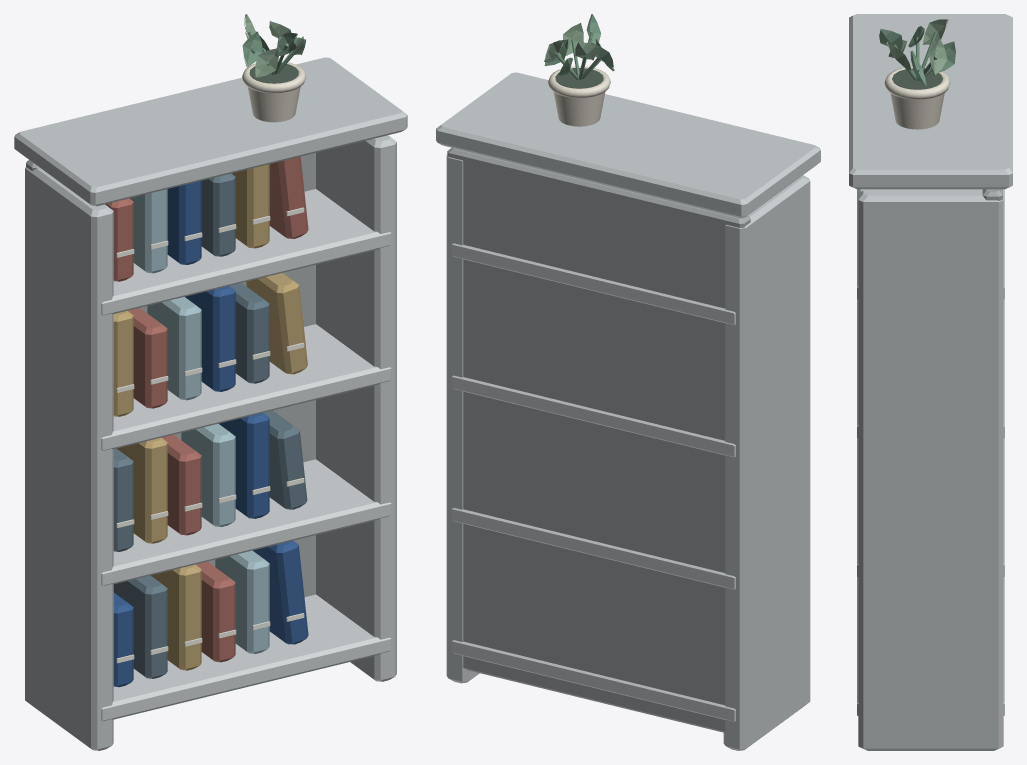
Rendered from v18_interior_ivory_bookcase.glb.
3 renders of one model, left to right at view 1: azimuth 30°, elevation 25°; view 2: azimuth 150°, elevation 25°; view 3: azimuth 270°, elevation 25°, orthographic. The views are drawn at different scales.
Visible parts, largest first — view 1: _MeshInstance3D_4603, _MeshInstance3D_4604, _MeshInstance3D_4657, _MeshInstance3D_4618, _MeshInstance3D_4631, _MeshInstance3D_4644, _MeshInstance3D_4605, _MeshInstance3D_4602, _MeshInstance3D_4614, _MeshInstance3D_4608, _MeshInstance3D_4636, _MeshInstance3D_4625 (+22 smaller); view 2: _MeshInstance3D_4602, _MeshInstance3D_4603, _MeshInstance3D_4657, _MeshInstance3D_4604, _MeshInstance3D_4631, _MeshInstance3D_4618, _MeshInstance3D_4605, _MeshInstance3D_4644, _MeshInstance3D_4658, _MeshInstance3D_4659; view 3: _MeshInstance3D_4604, _MeshInstance3D_4657, _MeshInstance3D_4658, _MeshInstance3D_4659, _MeshInstance3D_4660, _MeshInstance3D_4605, _MeshInstance3D_4618, _MeshInstance3D_4631, _MeshInstance3D_4644, _MeshInstance3D_4683, _MeshInstance3D_4677, _MeshInstance3D_4668.
Part boxes in pixels (box(x1,y1,x2,y2)): _MeshInstance3D_4603: box(25, 167, 113, 750); _MeshInstance3D_4604: box(316, 135, 396, 681); _MeshInstance3D_4657: box(14, 57, 407, 206); _MeshInstance3D_4618: box(101, 459, 391, 585); _MeshInstance3D_4631: box(101, 324, 391, 450); _MeshInstance3D_4644: box(101, 189, 391, 315); _MeshInstance3D_4605: box(101, 594, 391, 721); _MeshInstance3D_4602: box(26, 153, 315, 597); _MeshInstance3D_4614: box(215, 550, 269, 653); _MeshInstance3D_4608: box(113, 575, 167, 678); _MeshInstance3D_4636: box(147, 297, 201, 400); _MeshInstance3D_4625: box(181, 423, 235, 526); _MeshInstance3D_4602: box(447, 148, 750, 732); _MeshInstance3D_4603: box(723, 175, 810, 750); _MeshInstance3D_4657: box(436, 72, 820, 217); _MeshInstance3D_4604: box(446, 155, 479, 683); _MeshInstance3D_4631: box(451, 375, 735, 457); _MeshInstance3D_4618: box(451, 508, 735, 589); _MeshInstance3D_4605: box(451, 640, 735, 721); _MeshInstance3D_4644: box(451, 243, 735, 324); _MeshInstance3D_4658: box(553, 92, 605, 126); _MeshInstance3D_4659: box(548, 66, 610, 98); _MeshInstance3D_4604: box(858, 189, 1003, 750); _MeshInstance3D_4657: box(849, 14, 1012, 189); _MeshInstance3D_4658: box(890, 93, 944, 129); _MeshInstance3D_4659: box(884, 66, 950, 99); _MeshInstance3D_4660: box(892, 68, 942, 89); _MeshInstance3D_4605: box(857, 577, 1004, 715); _MeshInstance3D_4618: box(857, 438, 1004, 576); _MeshInstance3D_4631: box(857, 299, 1004, 437); _MeshInstance3D_4644: box(857, 189, 1004, 299); _MeshInstance3D_4683: box(928, 38, 947, 75); _MeshInstance3D_4677: box(922, 19, 948, 44); _MeshInstance3D_4668: box(879, 29, 902, 50).
Bounding box in the file's own units: 0.9967 × 1.98 × 0.4343.
